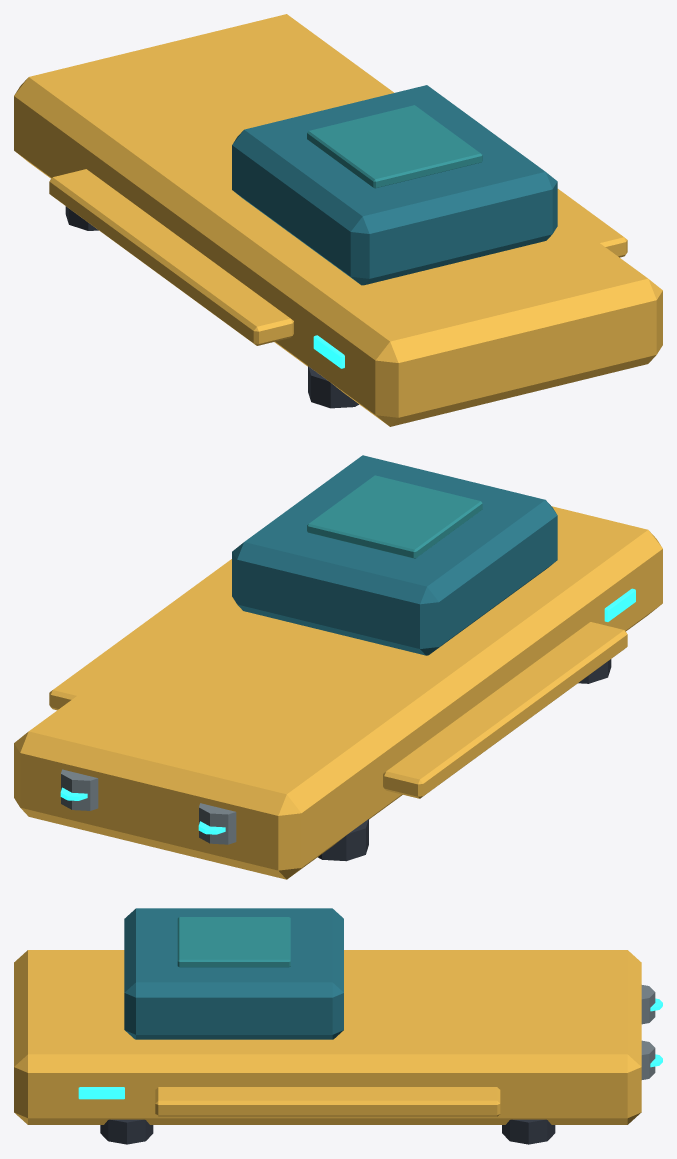
File: vehicles_002_seed11.glb
3 renders of one model, top to bottom at view 1: azimuth 30°, elevation 25°; view 2: azimuth 150°, elevation 25°; view 3: azimuth 270°, elevation 25°, orthographic. The views are drawn at different scales.
Visible parts, largest first — view 1: vehicles_002_seed11; view 2: vehicles_002_seed11; view 3: vehicles_002_seed11.
Part boxes in pixels (x1=…): vehicles_002_seed11: x1=14, y1=14, x2=662, y2=426; vehicles_002_seed11: x1=14, y1=455, x2=662, y2=879; vehicles_002_seed11: x1=14, y1=908, x2=662, y2=1144.
Bounding box in the file's own units: 3.24 × 1.49 × 5.87.
